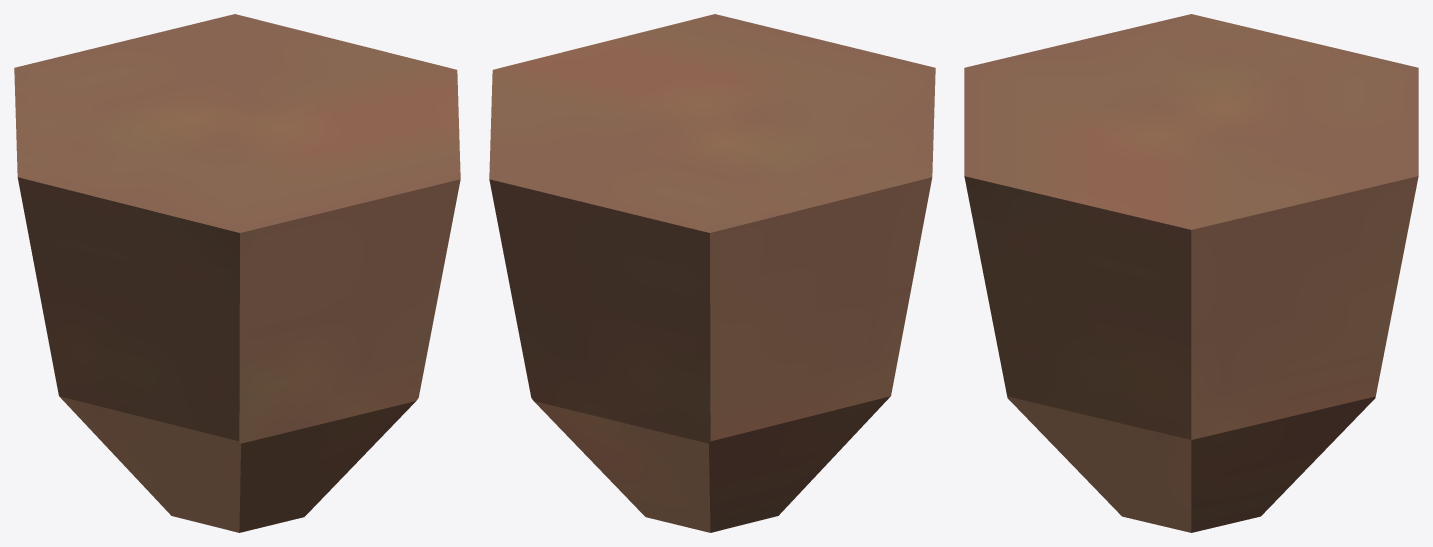
File: Regev.glb
3 views of the same model, side by side, from view 1: azimuth 30°, elevation 25°; view 2: azimuth 150°, elevation 25°; view 3: azimuth 270°, elevation 25° (orthographic).
Parts seen in each view (by area): view 1: Regev; view 2: Regev; view 3: Regev.
Boxes of the visible parts, <box> form: Regev: <box>14,14,460,532</box>; Regev: <box>489,14,935,532</box>; Regev: <box>964,14,1418,532</box>.
Size of the model in its own units: 78.27 by 64 by 69.6.
1 material, 1 textured.
